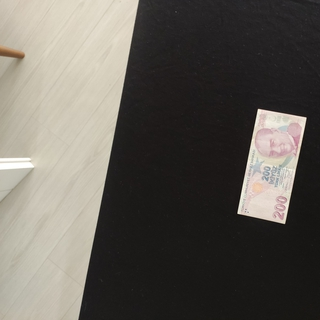200TLFront: (236, 108, 307, 224)
